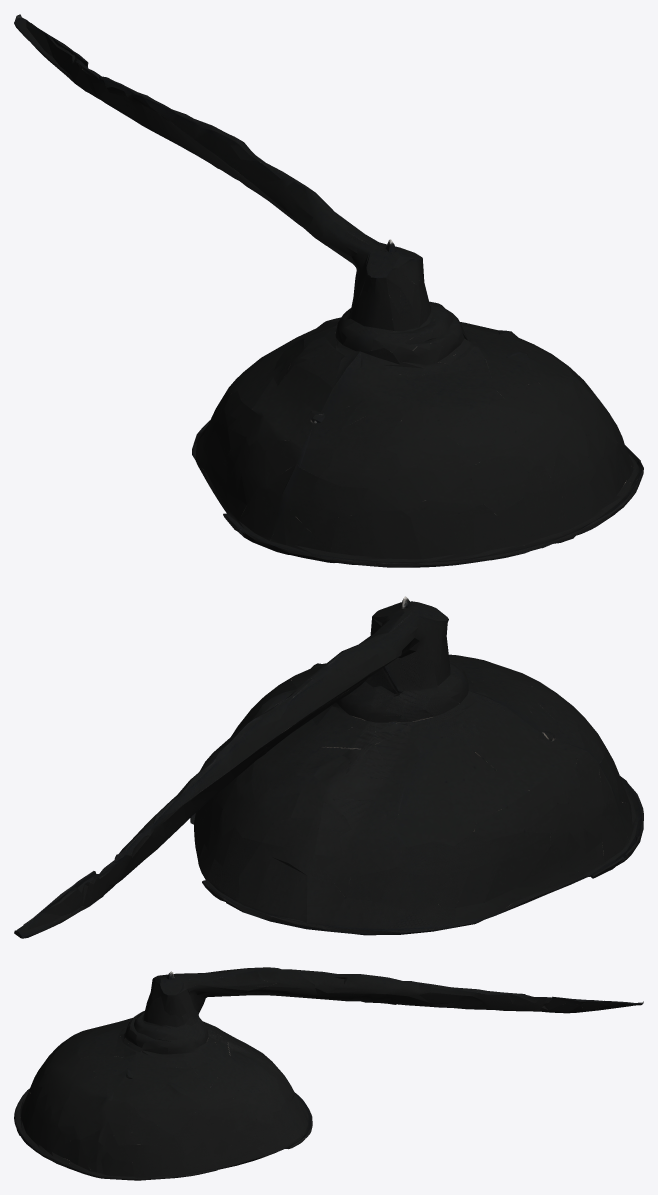
Rendered from enamel-pendant.glb.
3 views of the same model, one above another, from view 1: azimuth 30°, elevation 25°; view 2: azimuth 150°, elevation 25°; view 3: azimuth 270°, elevation 25° (orthographic). The views are drawn at different scales.
Visible parts, largest first — view 1: Mesh_0; view 2: Mesh_0; view 3: Mesh_0.
Part boxes in pixels (x1,y1,x2,y2): Mesh_0: (14,14,643,567); Mesh_0: (14,596,643,938); Mesh_0: (14,967,643,1180).
Size of the model in its own units: 0.8472 by 0.4995 by 1.9.
1 material, 1 textured.
